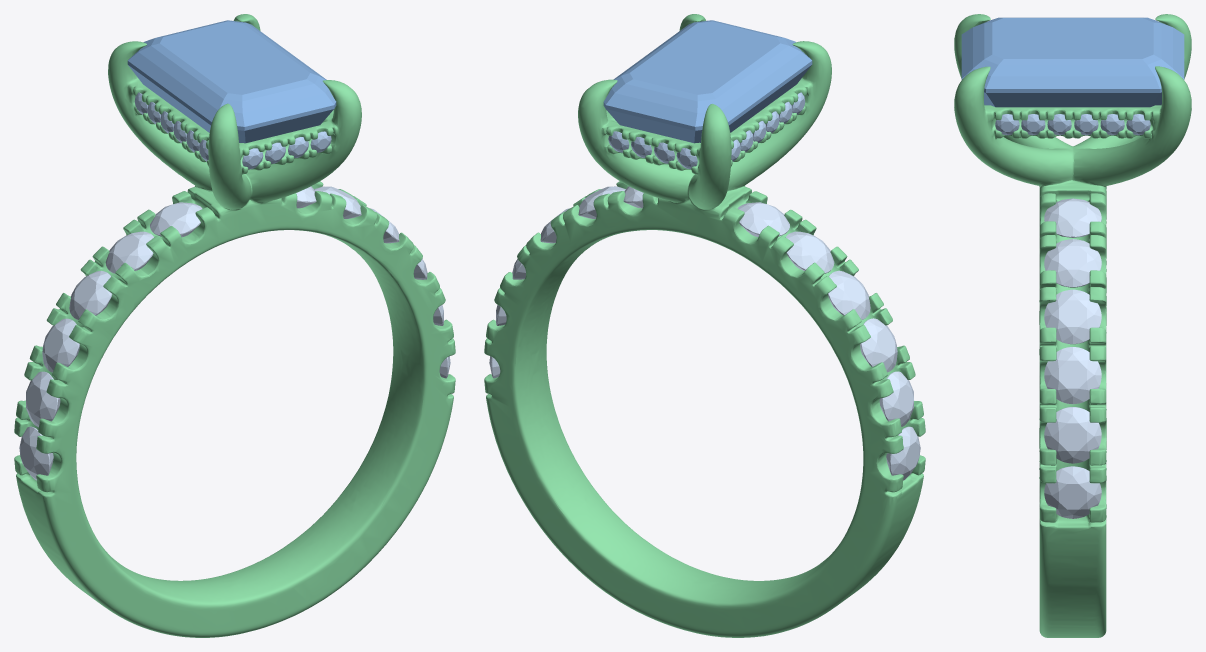
3 views of the same model, side by side, from view 1: azimuth 30°, elevation 25°; view 2: azimuth 150°, elevation 25°; view 3: azimuth 270°, elevation 25° (orthographic). The views are drawn at different scales.
Visible parts, largest first — view 1: ;SOLID, Diamond_Emerald, GemOnCrv (×6); view 2: ;SOLID, Diamond_Emerald, GemOnCrv (×6); view 3: ;SOLID, Diamond_Emerald, GemOnCrv (×12).
Boxes of the visible parts, x1=… form: ;SOLID: x1=14, y1=14, x2=455, y2=637; Diamond_Emerald: x1=127, y1=20, x2=336, y2=143; GemOnCrv (×6): x1=19, y1=202, x2=202, y2=480; ;SOLID: x1=484, y1=14, x2=925, y2=637; Diamond_Emerald: x1=603, y1=20, x2=812, y2=143; GemOnCrv (×6): x1=737, y1=202, x2=920, y2=480; ;SOLID: x1=954, y1=14, x2=1191, y2=637; Diamond_Emerald: x1=961, y1=17, x2=1184, y2=107; GemOnCrv (×12): x1=995, y1=114, x2=1150, y2=518.
Bounding box in the file's own units: 2.34 × 3.04 × 1.14.
